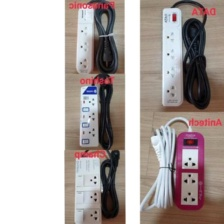three_eye_plug: (173, 129, 207, 211), (160, 5, 185, 108), (71, 154, 105, 223), (74, 3, 97, 74), (78, 83, 102, 148)
